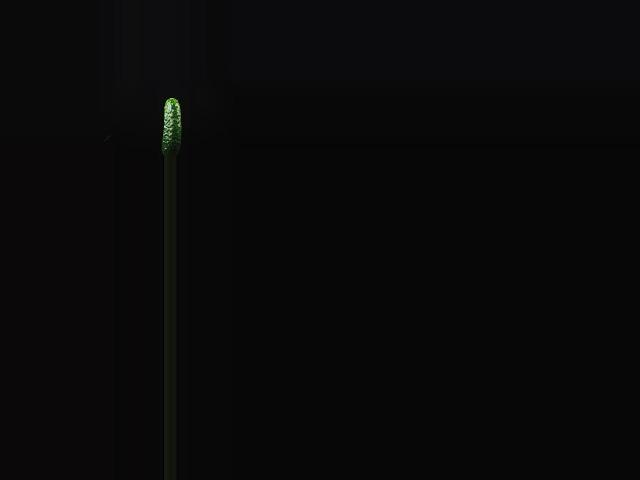cucumber: (160, 97, 181, 156)
